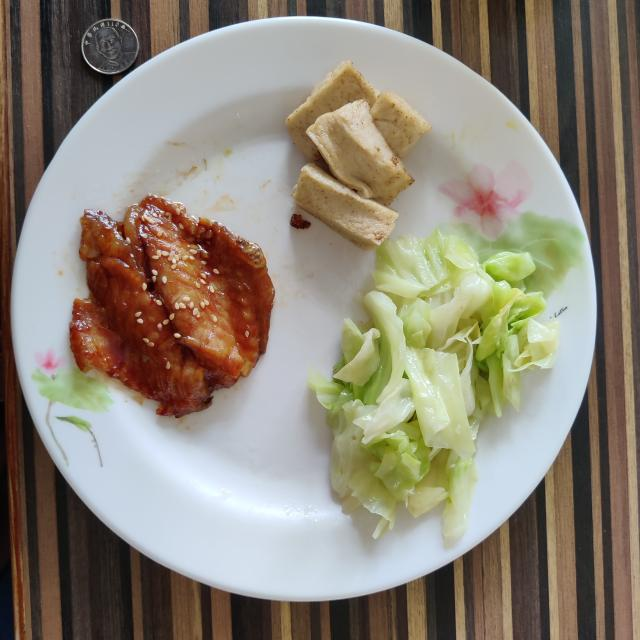Kabayaki sea bream fillet: (70, 195, 274, 418)
cabbage: (309, 230, 559, 546)
coin: (81, 19, 139, 75)
creamy tofu -without sauce-: (286, 61, 431, 250)
